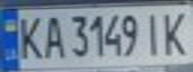1: (84, 11, 106, 57)
3: (66, 11, 90, 58)
4: (103, 10, 124, 57)
9: (118, 10, 142, 57)
A: (39, 11, 66, 61)
I: (139, 9, 166, 57)
K: (160, 7, 193, 57), (12, 11, 45, 61)
